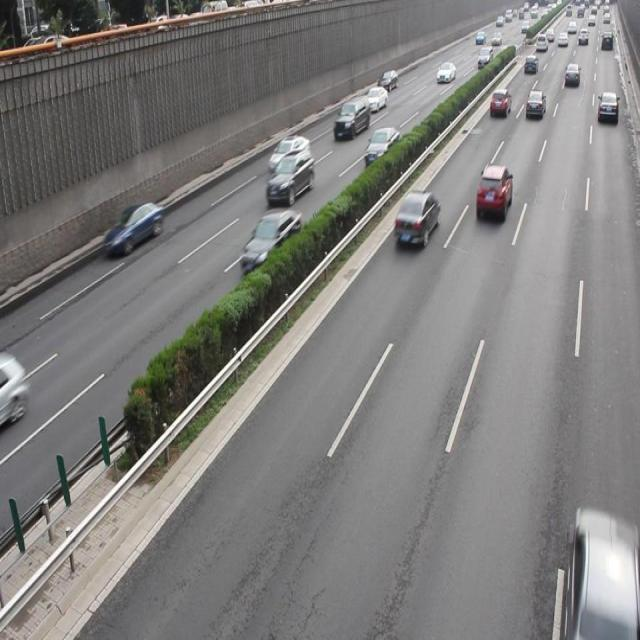car: (562, 508, 640, 640), (240, 206, 302, 273), (102, 200, 164, 254), (393, 188, 439, 246), (265, 148, 313, 202), (474, 164, 512, 222), (1, 350, 28, 426), (268, 133, 308, 173), (364, 126, 400, 167), (488, 87, 511, 118), (597, 89, 617, 124), (363, 85, 388, 112), (523, 89, 545, 117)
truck: (334, 96, 368, 139)
